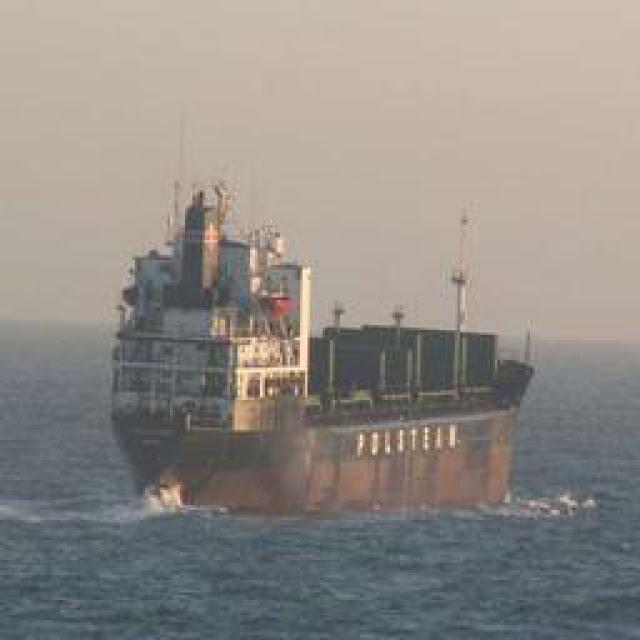Ship: (110, 166, 318, 504)
